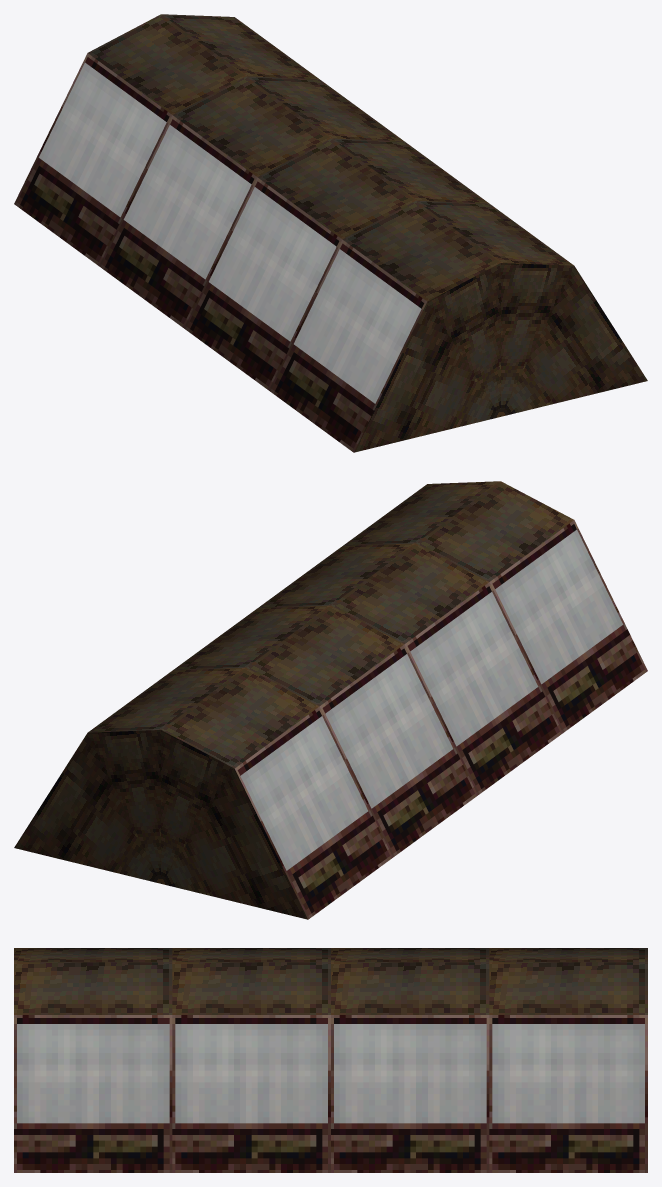
3 renders of one model, top to bottom at view 1: azimuth 30°, elevation 25°; view 2: azimuth 150°, elevation 25°; view 3: azimuth 270°, elevation 25°, orthographic. The views are drawn at different scales.
Visible parts, largest first — view 1: Slim_obj_079; view 2: Slim_obj_079; view 3: Slim_obj_079.
Part boxes in pixels (x1,y1,x2,y2): Slim_obj_079: [14, 14, 647, 452]; Slim_obj_079: [14, 481, 647, 919]; Slim_obj_079: [14, 948, 647, 1172].
Size of the model in its own units: 2 by 1 by 4.
Materials: 3 (3 with a texture image).
